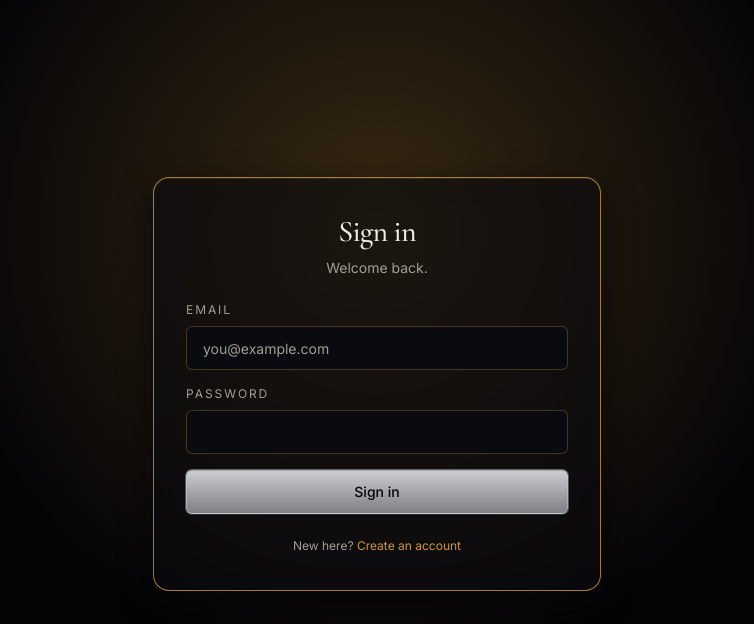
Test case: app/signin/page — email + password signin form › shows the action error inline
This screenshot has width=754, height=624.
In the field labelled "Email": [377, 348] box [186, 326, 568, 370], type "a@b.co"
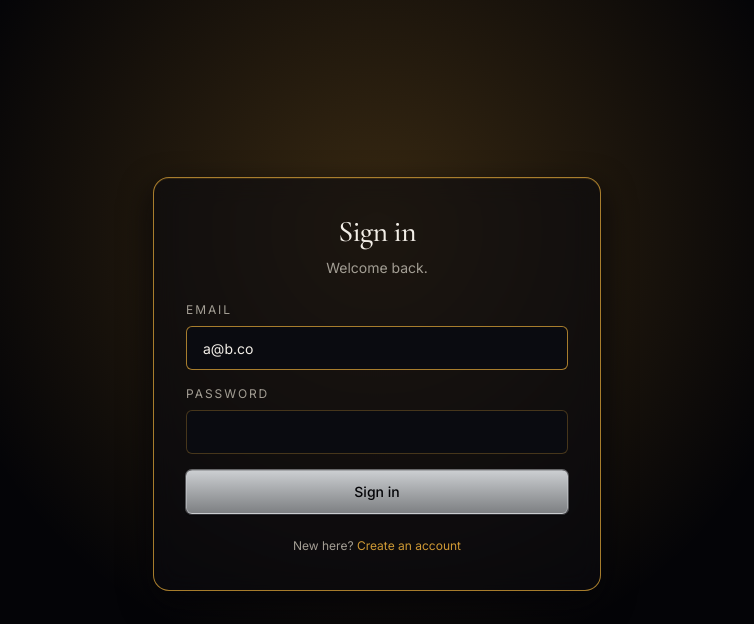
In the password field labelled "Password": [377, 432] box [186, 410, 568, 454], type "wrongpw"
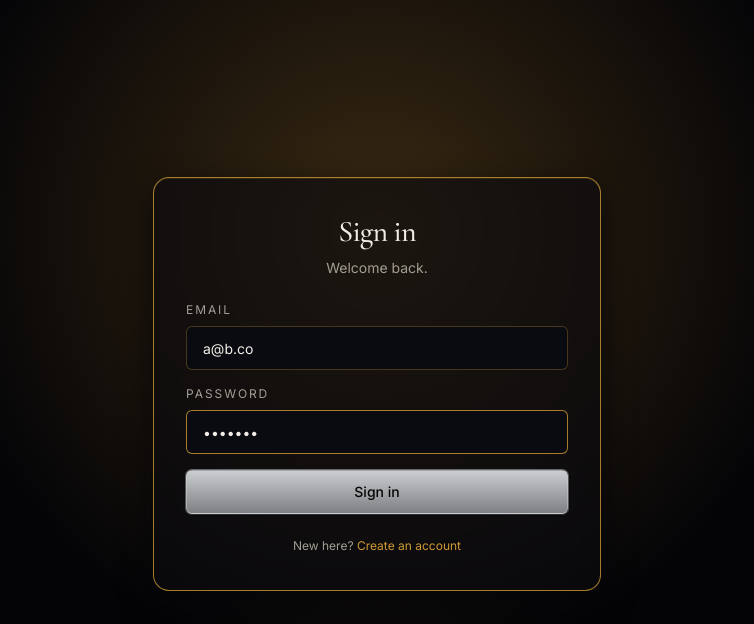
Click the button "Sign in": [377, 492] box [186, 470, 568, 514]
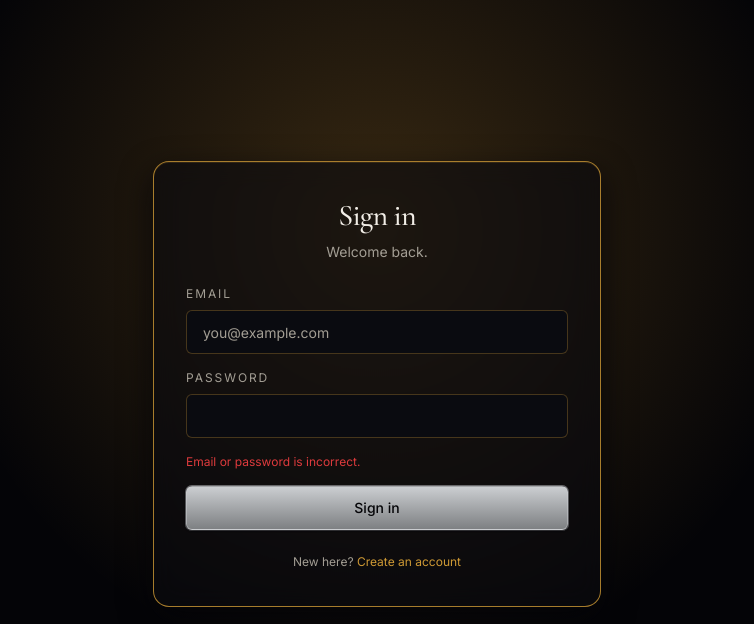
Check: the message shows "incorrect", box [186, 454, 360, 469]
